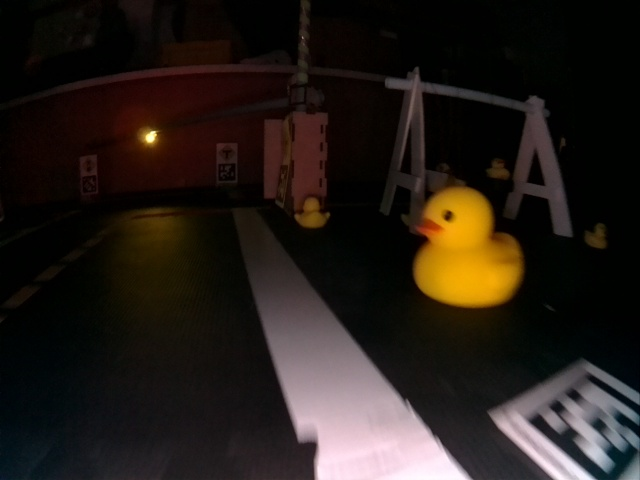Duckie: (413, 187, 523, 307), (294, 197, 328, 227), (585, 224, 607, 248), (487, 159, 508, 178)
Intersection sign: (219, 145, 236, 162)
QR code: (493, 361, 640, 480), (275, 165, 288, 204), (219, 164, 236, 181), (81, 175, 96, 194)
Signal sign: (81, 156, 96, 173)
Traffic light: (146, 129, 157, 143)
